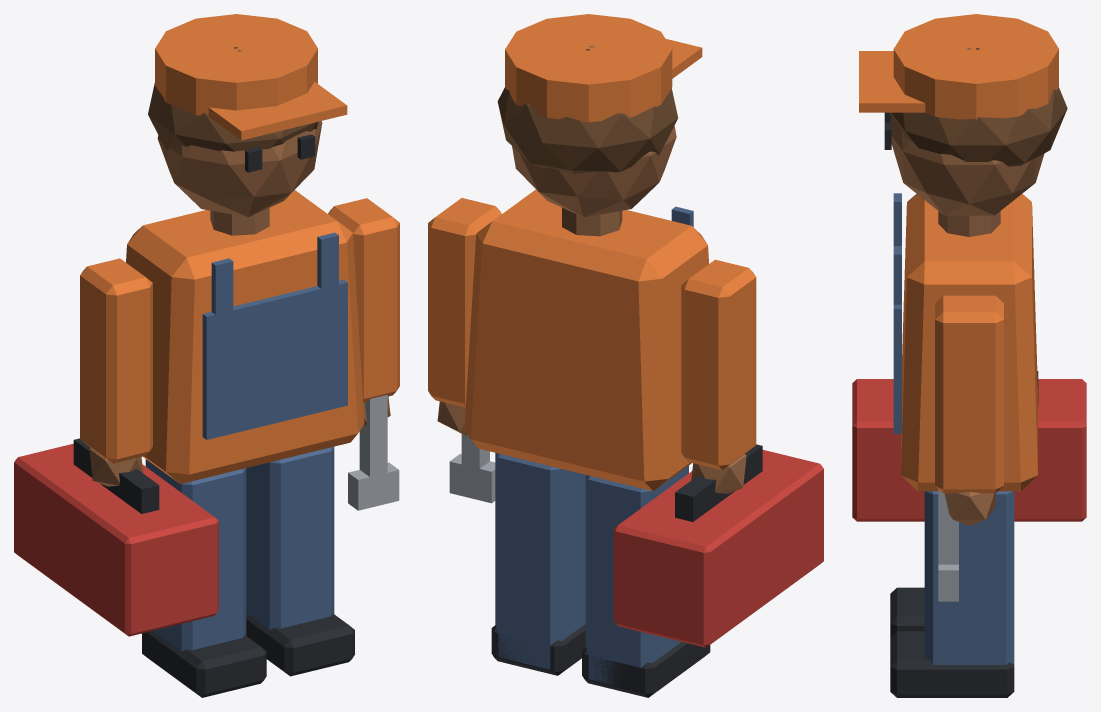
File: repairguy.glb
3 renders of one model, left to right at view 1: azimuth 30°, elevation 25°; view 2: azimuth 150°, elevation 25°; view 3: azimuth 270°, elevation 25°, orthographic. The views are drawn at different scales.
Parts seen in each view (by area): view 1: Body, ArmR, Props, LegL, LegR, ArmL; view 2: Body, ArmR, LegL, Props, ArmL, LegR; view 3: Body, Props, LegL, ArmL, ArmR, LegR.
Part boxes in pixels (bbox=[...]): Body: bbox=[126, 47, 364, 483]; ArmR: bbox=[14, 258, 218, 636]; Props: bbox=[155, 14, 347, 439]; LegL: bbox=[246, 446, 354, 676]; LegR: bbox=[142, 459, 266, 697]; ArmL: bbox=[328, 198, 399, 510]; Body: bbox=[464, 45, 708, 491]; ArmR: bbox=[613, 259, 823, 647]; LegL: bbox=[491, 453, 585, 675]; Props: bbox=[505, 14, 702, 226]; ArmL: bbox=[428, 198, 501, 503]; LegR: bbox=[582, 465, 710, 697]; Body: bbox=[884, 48, 1067, 491]; Props: bbox=[859, 14, 1058, 433]; LegL: bbox=[890, 491, 1014, 697]; ArmL: bbox=[935, 295, 1003, 601]; ArmR: bbox=[852, 371, 1086, 521]; LegR: bbox=[890, 587, 924, 636].
Bounding box in the file's own units: 0.7834 × 1.42 × 0.493.
